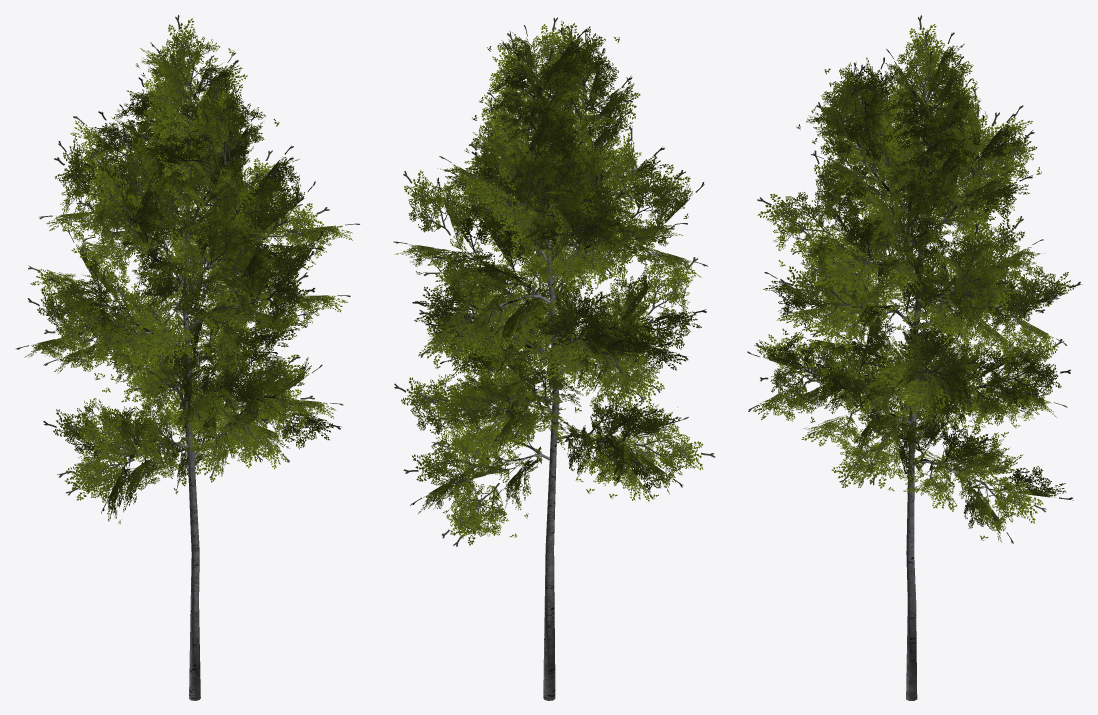
The model's file is birch2.glb.
3 views of the same model, side by side, from view 1: azimuth 30°, elevation 25°; view 2: azimuth 150°, elevation 25°; view 3: azimuth 270°, elevation 25° (orthographic). The views are drawn at different scales.
Visible parts, largest first — view 1: birch2; view 2: birch2; view 3: birch2.
Boxes of the visible parts, left/top/right/bottom form: birch2: left=16, top=15, right=359, bottom=700; birch2: left=393, top=17, right=715, bottom=700; birch2: left=747, top=15, right=1082, bottom=700.
Bounding box in the file's own units: 9.29 × 21 × 9.62.
Materials: 2 (2 with a texture image).
